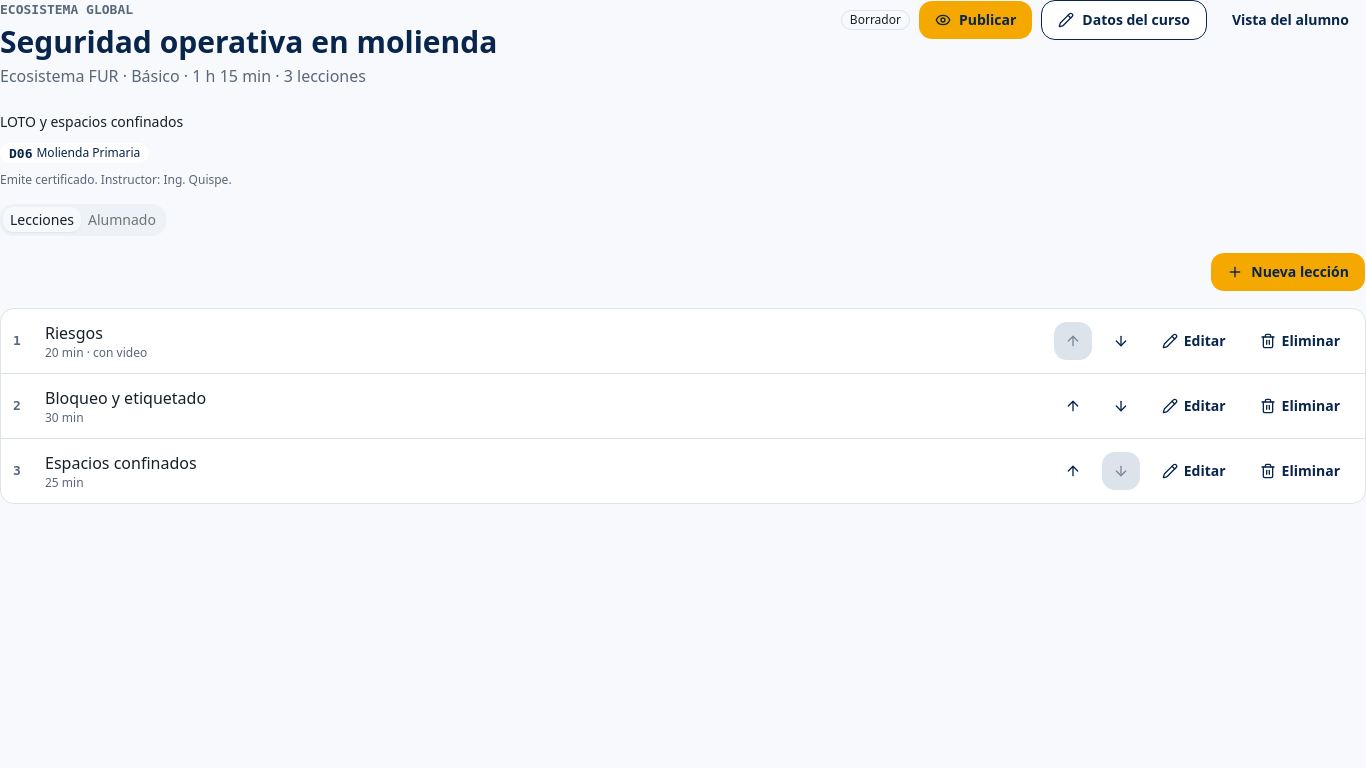
Test: Editor del curso › el servidor rechaza un enlace no http(s): se ve bajo el campo y el diálogo sigue abierto
Click the button "Nueva lección" at (1288, 272), box [1210, 252, 1365, 292]
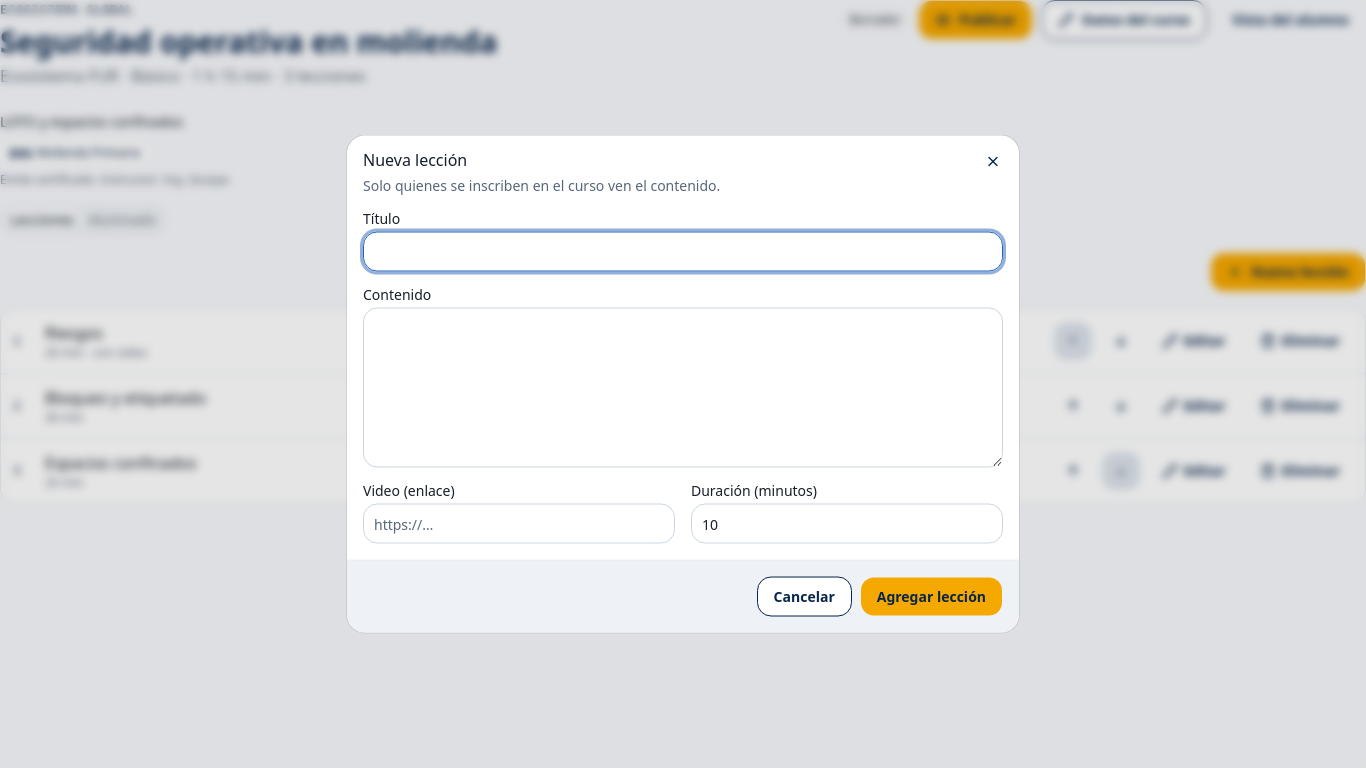
Type "X" into the field labelled "Título" at (683, 252), box [363, 232, 1003, 272]
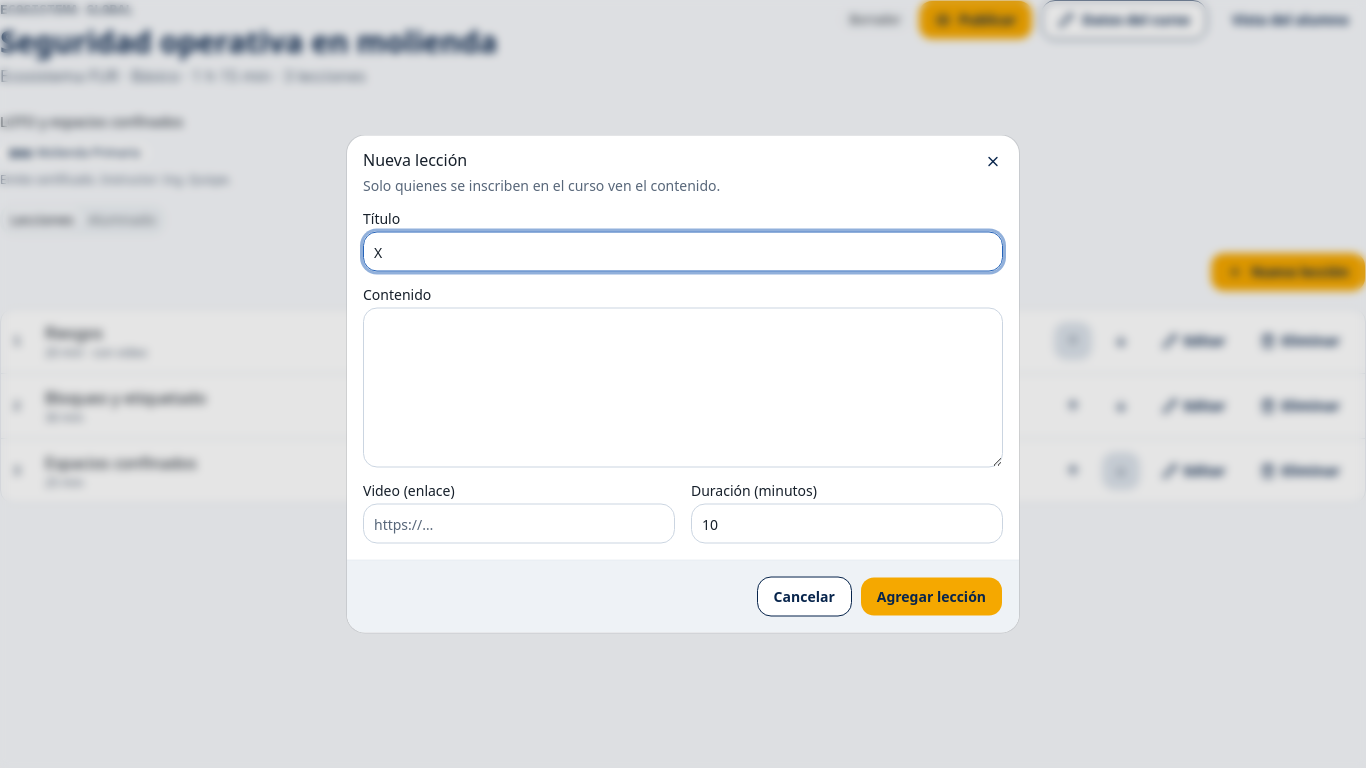
Type "javascript:alert(1)" into the field labelled "Video (enlace)" at (519, 524), box [363, 504, 675, 544]
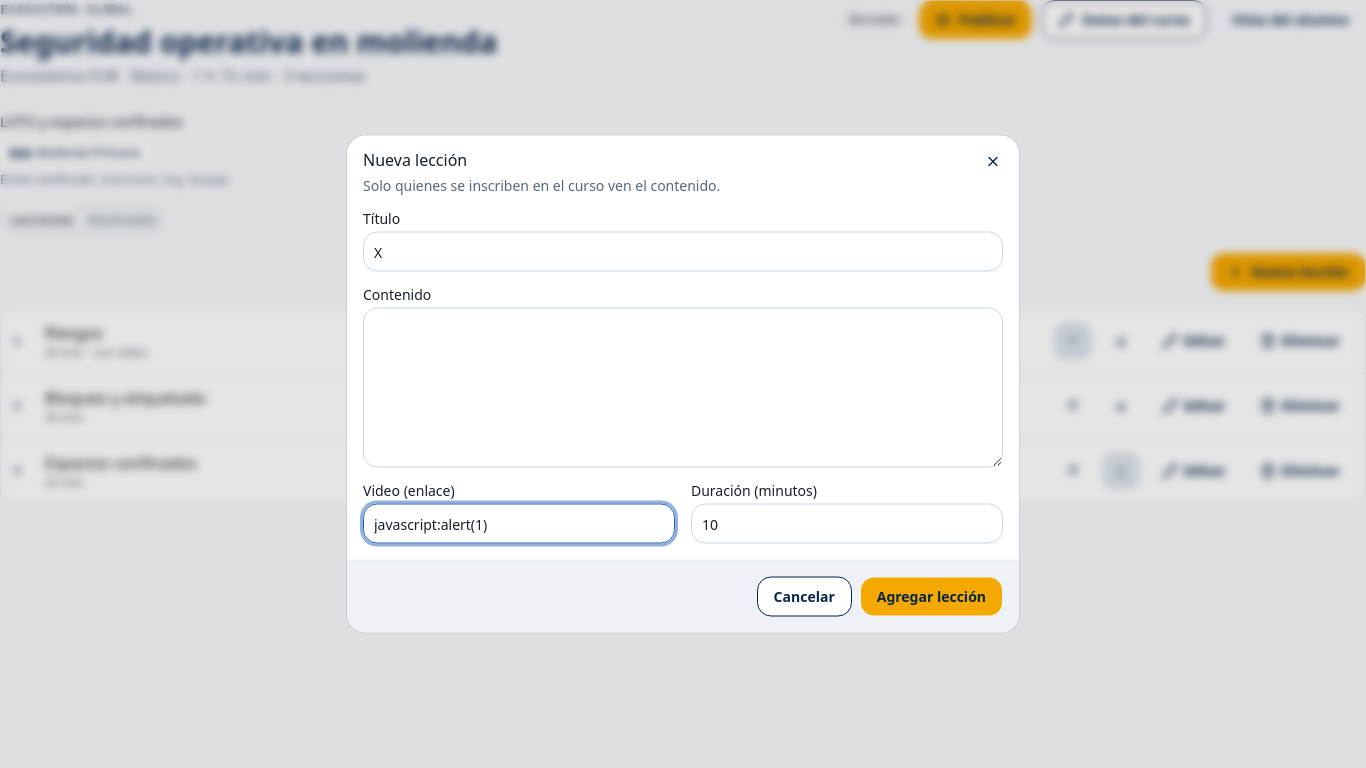
Click the button "Agregar lección" at (931, 596), box [860, 576, 1003, 616]
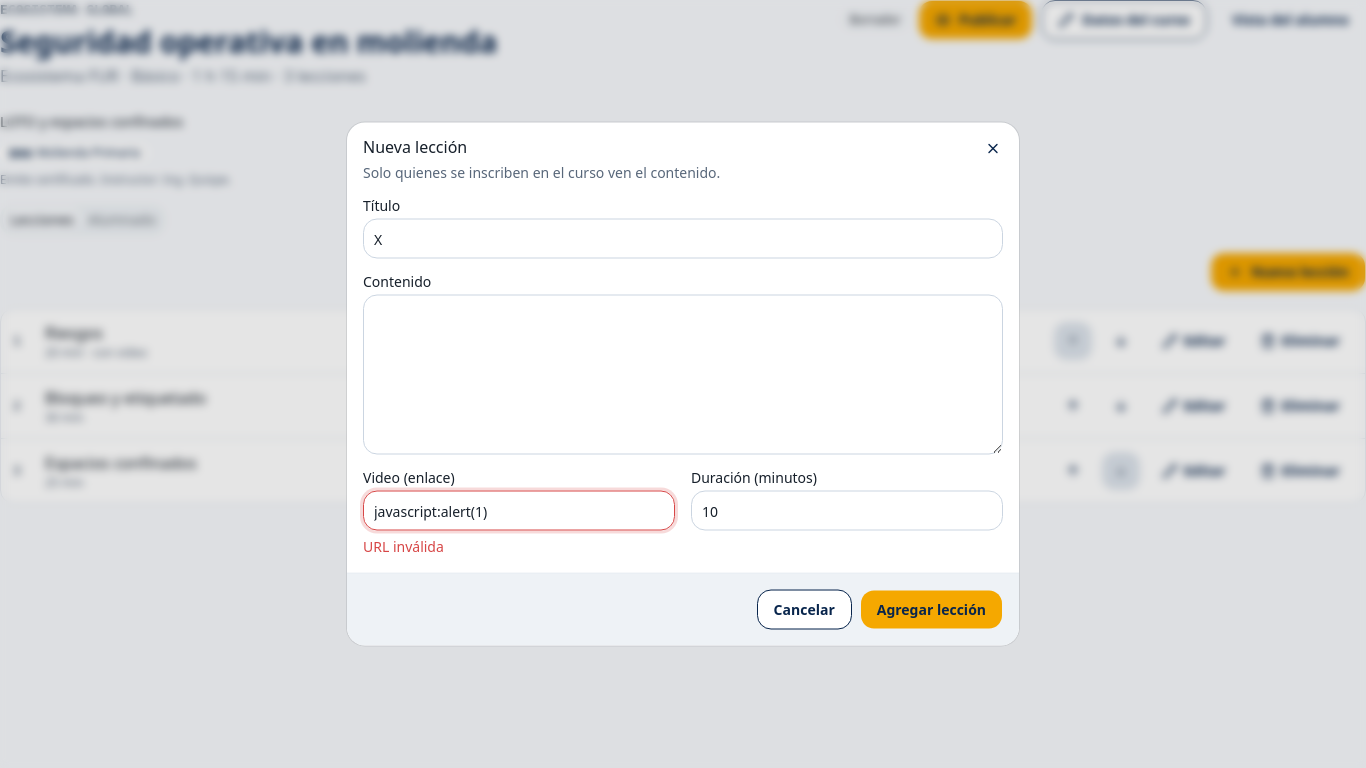
Now the text "URL inválida" is shown, box [363, 536, 444, 556]
